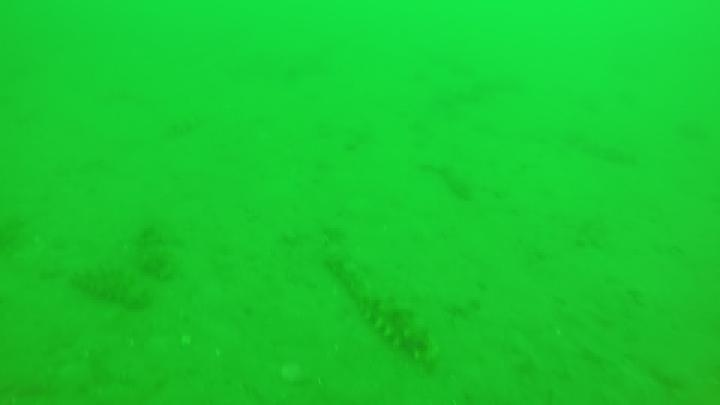holothurian: (325, 251, 440, 371), (68, 263, 152, 310)
